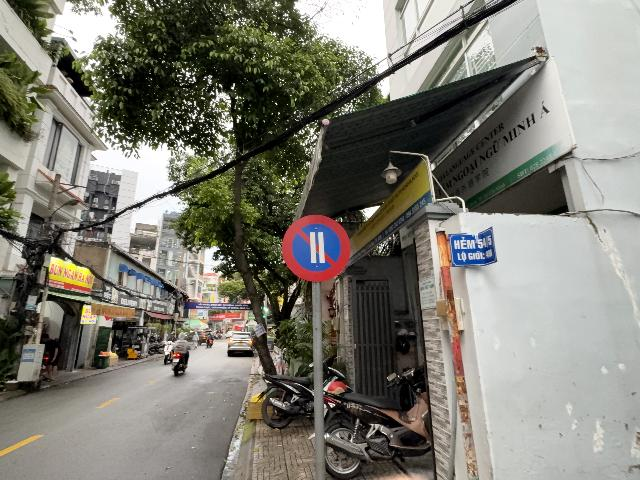cam-do-xe-ngay-chan: (283, 213, 350, 281)
